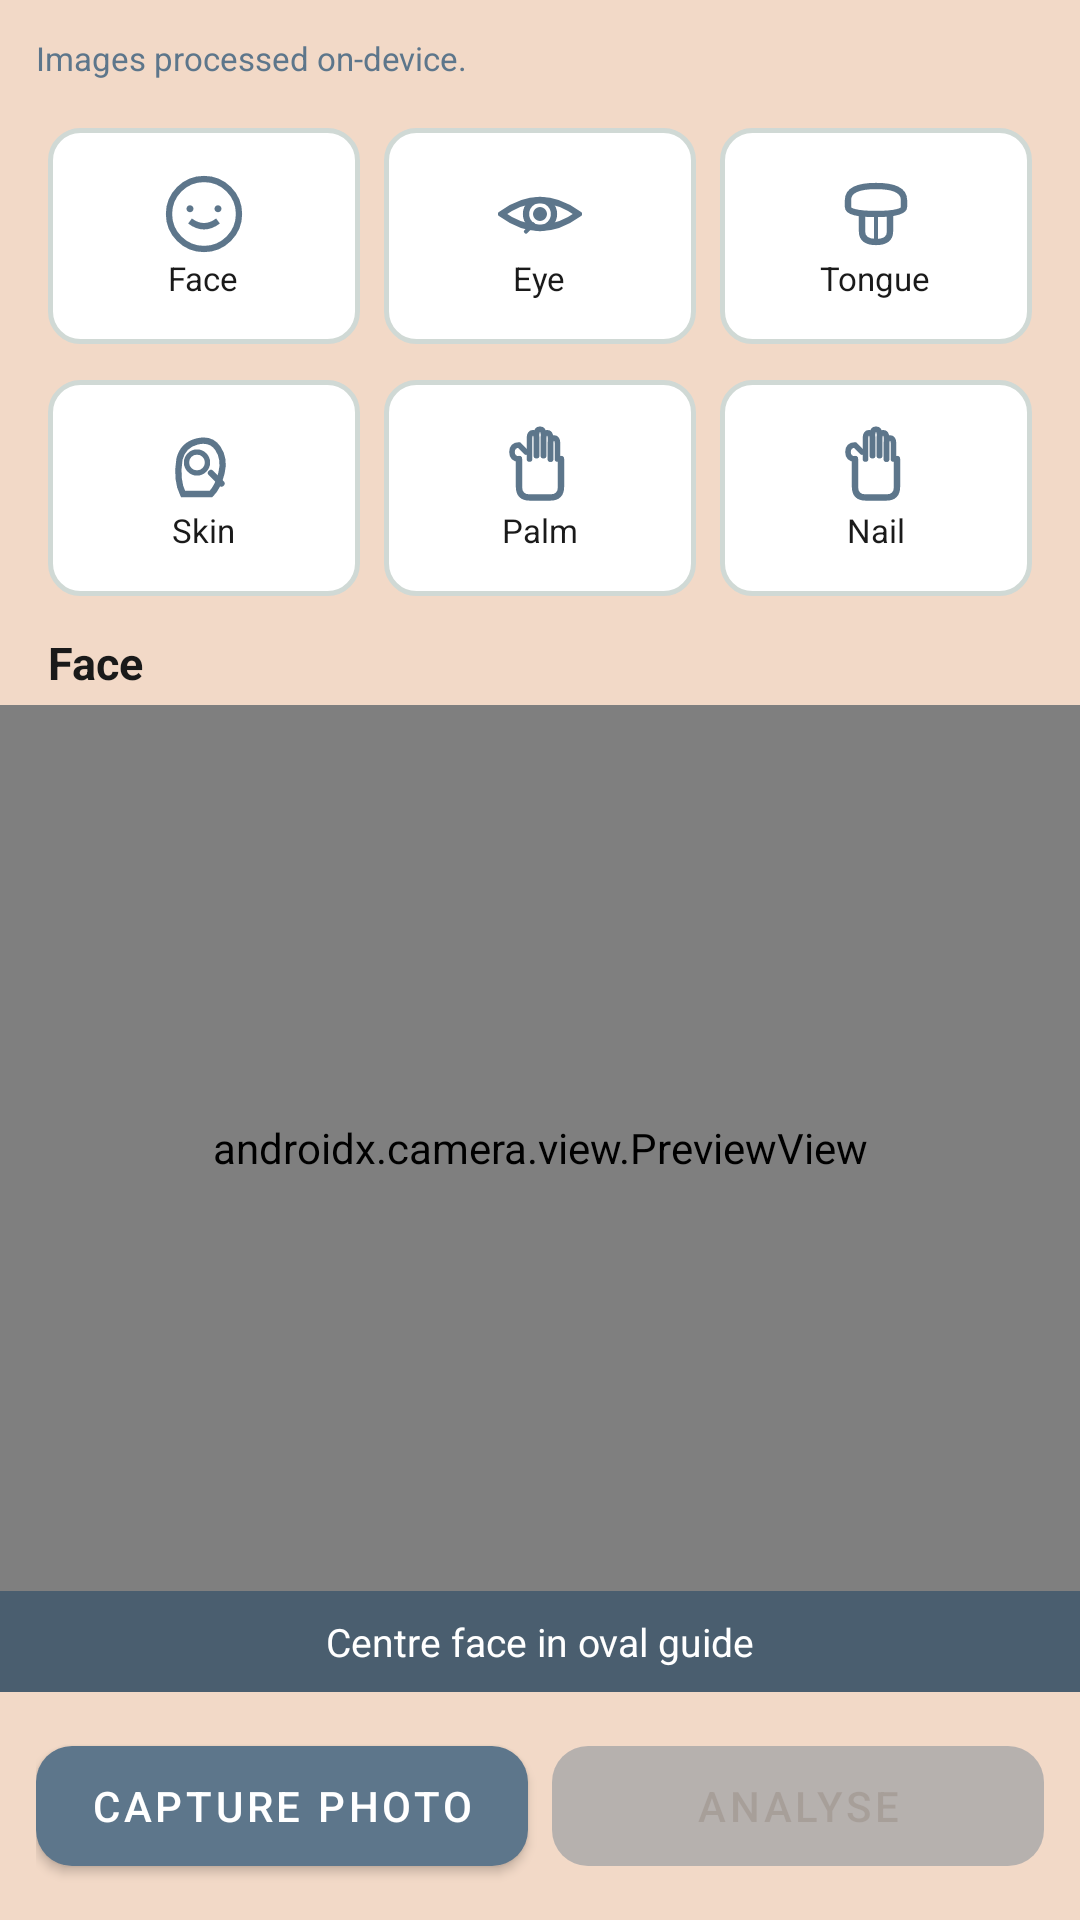

Where to tap for icons on this 1080px x 1920px app screen, as (x=x, y=y):
hand: (x=537, y=463), (x=873, y=463)
